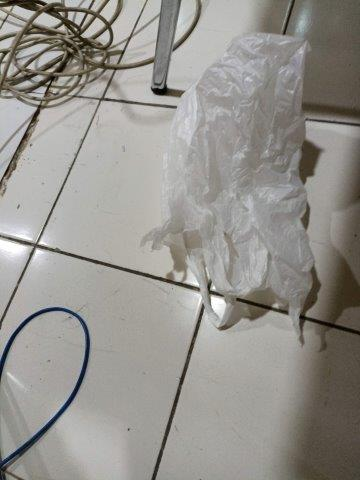plastik: (162, 33, 315, 344)
